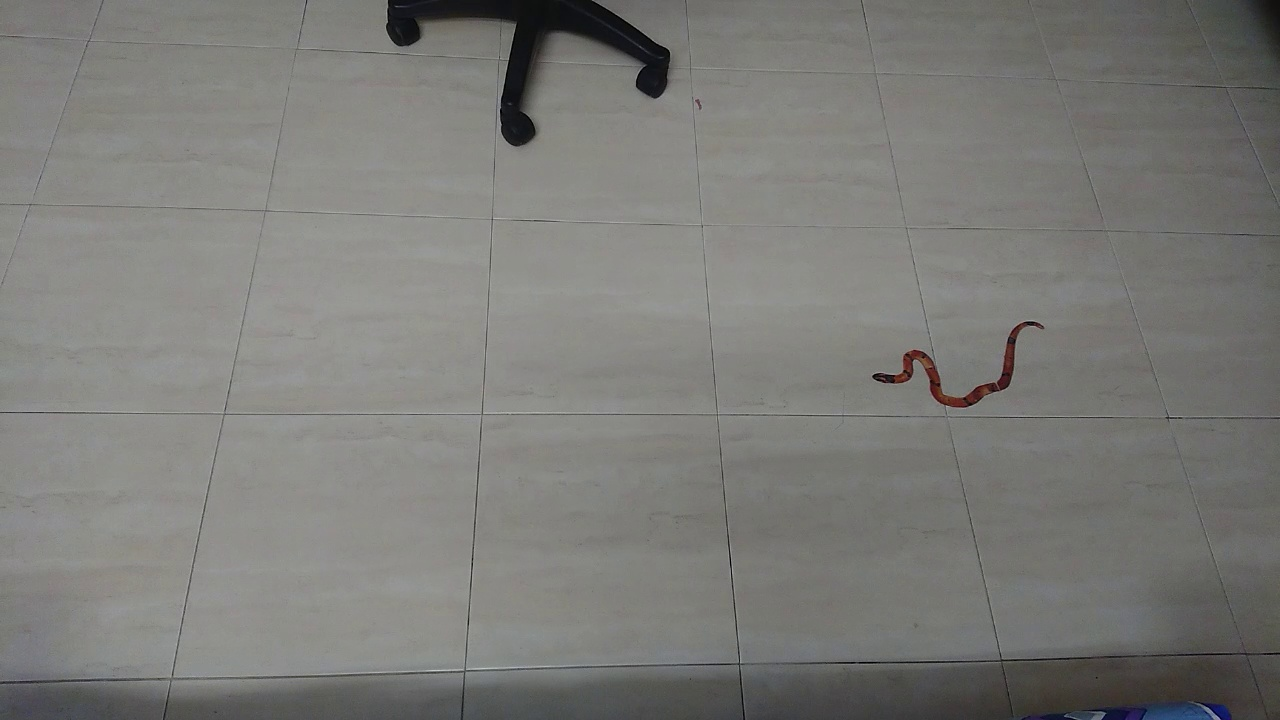snake: (840, 317, 1061, 427)
